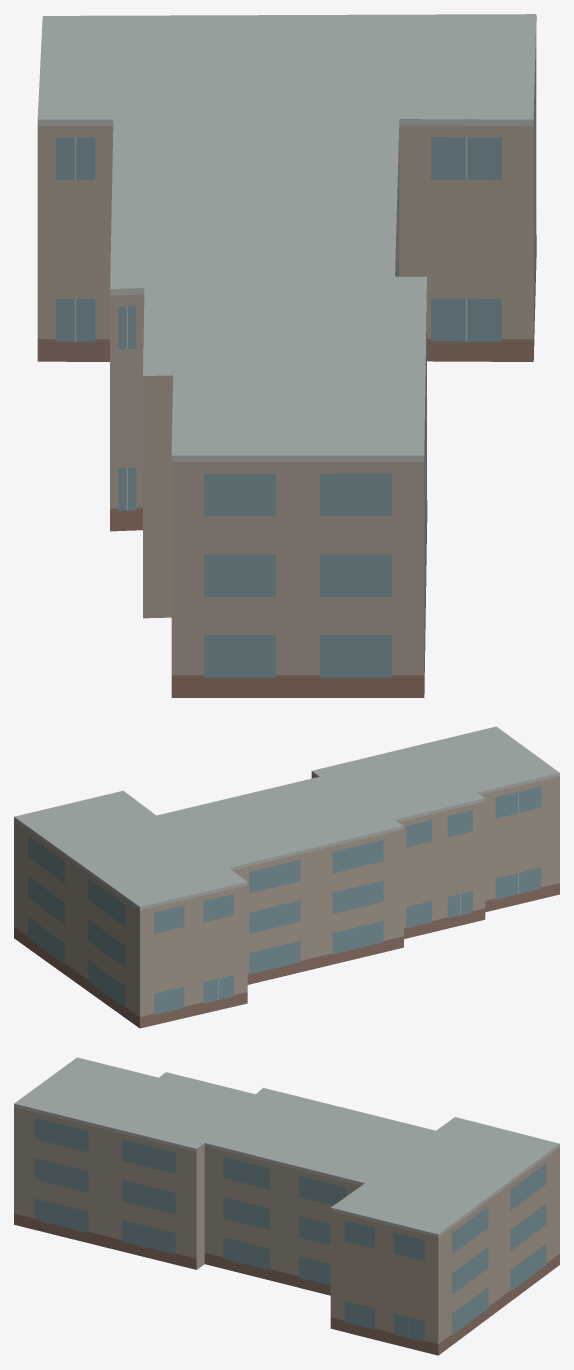
The model's file is survey-upis-32962839.glb.
3 renders of one model, top to bottom at view 1: azimuth 30°, elevation 25°; view 2: azimuth 150°, elevation 25°; view 3: azimuth 270°, elevation 25°, orthographic. The views are drawn at different scales.
Parts seen in each view (by area): view 1: survey-upis-32962839.tmp; view 2: survey-upis-32962839.tmp; view 3: survey-upis-32962839.tmp.
Part boxes in pixels (bbox=[...]): survey-upis-32962839.tmp: bbox=[37, 14, 536, 697]; survey-upis-32962839.tmp: bbox=[14, 726, 559, 1028]; survey-upis-32962839.tmp: bbox=[14, 1057, 559, 1355].
Bounding box in the file's own units: 28.72 × 9.15 × 37.39.
